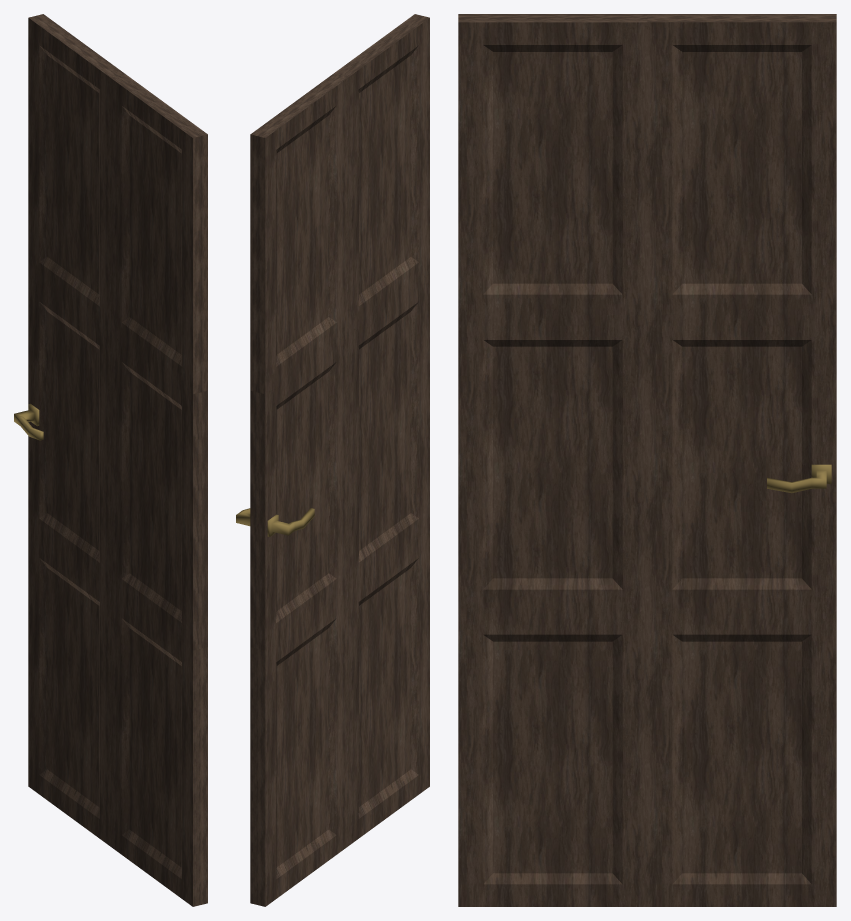
Rendered from door.glb.
3 renders of one model, left to right at view 1: azimuth 30°, elevation 25°; view 2: azimuth 150°, elevation 25°; view 3: azimuth 270°, elevation 25°, orthographic. The views are drawn at different scales.
Visible parts, largest first — view 1: doors; view 2: doors; view 3: doors.
Boxes of the visible parts, x1,y1,x2,y2 form: doors: (14, 14, 207, 906); doors: (236, 14, 429, 906); doors: (458, 14, 836, 906).
Size of the model in its own units: 0.14 by 1.96 by 0.76.
Materials: 2 (1 with a texture image).
